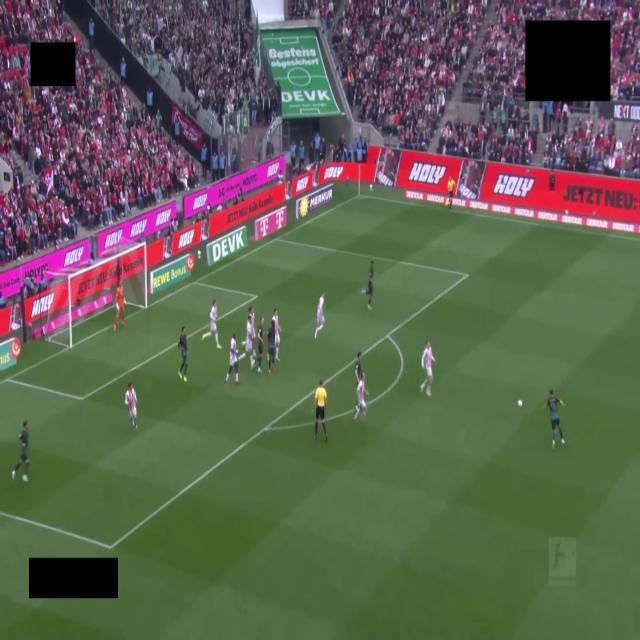ball: (518, 400, 522, 407)
player: (545, 389, 564, 448), (12, 421, 29, 481), (202, 299, 221, 348), (239, 313, 254, 369), (421, 342, 435, 397), (225, 332, 239, 384), (354, 374, 368, 421), (125, 383, 137, 431), (362, 261, 373, 310), (114, 282, 125, 331), (178, 326, 187, 382), (272, 309, 280, 361), (315, 292, 324, 338), (256, 317, 263, 373), (268, 320, 275, 375), (355, 352, 363, 386), (355, 352, 363, 383), (249, 306, 255, 339)
referee: (314, 380, 327, 441)
